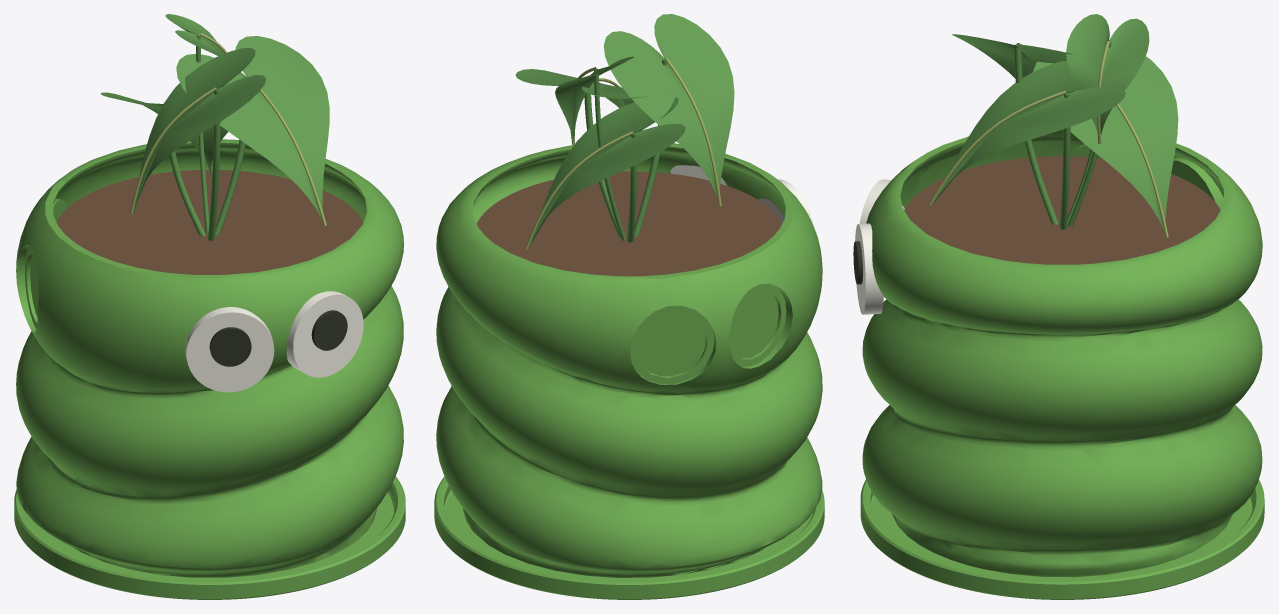
Rendered from wobble-pothos-v01.glb.
3 renders of one model, left to right at view 1: azimuth 30°, elevation 25°; view 2: azimuth 150°, elevation 25°; view 3: azimuth 270°, elevation 25°, orthographic. The views are drawn at different scales.
Visible parts, largest first — view 1: Pot, Soil, Saucer, Leaf_0, Leaf_2, EyeLeft, EyeRight, PupilLeft, PupilRight, Leaf_3, Stem_2, Leaf_1 (+5 smaller); view 2: Pot, Soil, Leaf_2, Saucer, Leaf_1, Leaf_0, Leaf_3, Stem_3, Stem_2, Stem_1, Vein_2, Vein_1 (+1 smaller); view 3: Pot, Soil, Saucer, Leaf_1, Leaf_0, Leaf_3, Leaf_2, EyeRight, Stem_2, Stem_0, Vein_0, Vein_1.
Part boxes in pixels (bbox=[...]): Pot: bbox=[16, 139, 403, 577]; Soil: bbox=[56, 169, 363, 274]; Saucer: bbox=[14, 476, 405, 599]; Leaf_0: bbox=[176, 36, 329, 218]; Leaf_2: bbox=[133, 48, 265, 213]; EyeLeft: bbox=[185, 307, 274, 392]; EyeRight: bbox=[286, 291, 363, 377]; PupilLeft: bbox=[209, 327, 251, 366]; PupilRight: bbox=[311, 310, 347, 350]; Leaf_3: bbox=[165, 14, 224, 57]; Stem_2: bbox=[208, 88, 220, 240]; Leaf_1: bbox=[100, 92, 228, 173]; Pot: bbox=[436, 143, 822, 577]; Soil: bbox=[476, 171, 782, 276]; Leaf_2: bbox=[603, 14, 734, 199]; Saucer: bbox=[434, 476, 824, 599]; Leaf_1: bbox=[528, 97, 685, 248]; Leaf_0: bbox=[515, 69, 649, 107]; Leaf_3: bbox=[555, 56, 634, 142]; Stem_3: bbox=[594, 69, 626, 240]; Stem_2: bbox=[634, 58, 667, 236]; Stem_1: bbox=[627, 132, 637, 242]; Vein_2: bbox=[665, 58, 721, 206]; Vein_1: bbox=[525, 131, 633, 249]; Pot: bbox=[862, 129, 1262, 577]; Soil: bbox=[904, 156, 1220, 264]; Saucer: bbox=[860, 479, 1264, 599]; Leaf_1: bbox=[1033, 40, 1178, 230]; Leaf_0: bbox=[932, 61, 1125, 204]; Leaf_3: bbox=[1066, 14, 1149, 134]; Leaf_2: bbox=[952, 34, 1072, 78]; EyeRight: bbox=[855, 223, 883, 314]; Stem_2: bbox=[1014, 45, 1058, 224]; Stem_0: bbox=[1059, 91, 1070, 229]; Vein_0: bbox=[929, 90, 1066, 205]; Vein_1: bbox=[1116, 104, 1168, 237].
Bounding box in the file's own units: 2.02 × 2.72 × 2.06.
